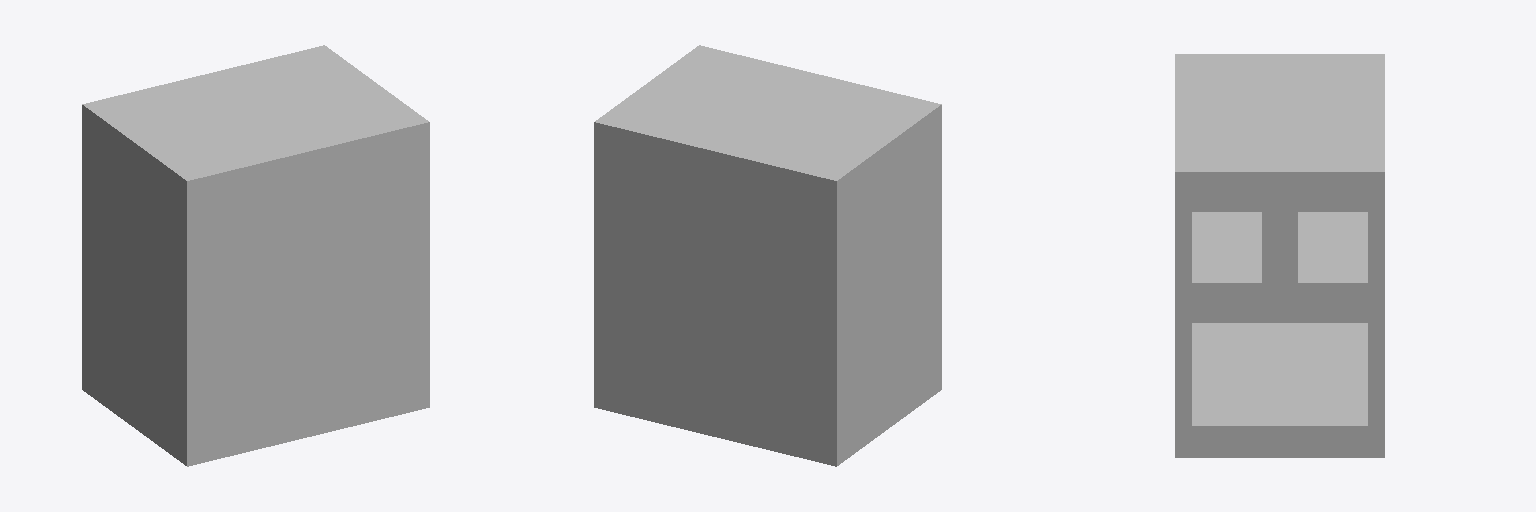
The model's file is send.obj.
The picture shows the model from 3 angles: view 1: azimuth 30°, elevation 25°; view 2: azimuth 150°, elevation 25°; view 3: azimuth 270°, elevation 25°; orthographic projection.
Visible parts, largest first — view 1: Cube_Cube.001; view 2: Cube_Cube.001; view 3: Cube_Cube.001.
Part boxes in pixels (left/top/right/bottom): Cube_Cube.001: left=82, top=45, right=429, bottom=466; Cube_Cube.001: left=594, top=45, right=941, bottom=466; Cube_Cube.001: left=1175, top=54, right=1384, bottom=457.
Bounding box in the file's own units: 15.36 × 17.28 × 11.52.